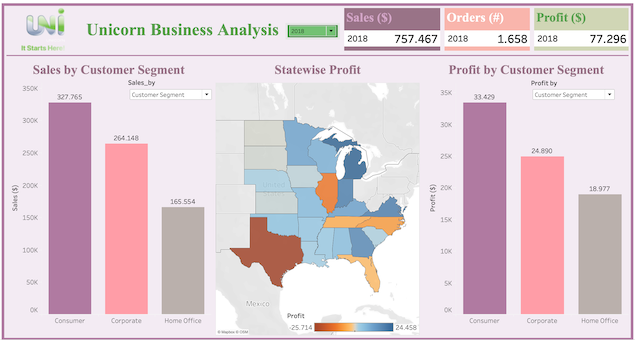

The dashboard page shown, as its layout file describes it:
{"tool":"tableau","page":{"name":"Unicorn_Dashboard","canvas":[1200,640],"ordinal":2},"visuals":[{"type":"image","param":"Image/Unicorn_new.png","box":[13.1,12.9,147,88]},{"type":"text","box":[160.1,12.9,485.7,88]},{"type":"worksheet","title":"Kpi_Sales","mark":"Automatic","rows":["Calculation_101260659032104976"],"box":[645.9,12.9,188,88]},{"type":"worksheet","title":"Kpi_Orders","mark":"Automatic","rows":["Calculation_101260659032104976"],"box":[833.9,12.9,168,88]},{"type":"worksheet","title":"Kpi_Profit","mark":"Automatic","rows":["Calculation_101260659032104976"],"box":[1001.9,12.9,185,88]},{"type":"filter","title":"Kpi_Profit","param":"[federated.1awfuua0epgay91aizjmr0vc12ec].[none:Calculation_101260659032104976:nk","box":[540,45,102,31]},{"type":"blank","box":[13.1,100.9,1173.7,10]},{"type":"worksheet","title":"Sales_Details","mark":"Bar","rows":["Sales"],"cols":["Calculation_101260658948505613"],"box":[13,111,392,524]},{"type":"worksheet","title":"Geo_View","mark":"Multipolygon","box":[405,111,391,524]},{"type":"worksheet","title":"Profit_Details","mark":"Automatic","rows":["Profit"],"cols":["Calculation_101260658944114699"],"box":[796,111,391,524]},{"type":"parameter","param":"[Parameters].[Parameter 4]","box":[245,148,160,45]},{"type":"parameter","param":"[Parameters].[Parameter 2]","box":[1000,149,160,43]},{"type":"legend","title":"Geo_View","param":"[federated.1awfuua0epgay91aizjmr0vc12ec].[sum:Profit:qk]","box":[543,584.9,248.1,39.4]}]}

Visuals, with their boxes in screenshot pixels (x1, y1, x2, y2), scaled from the page's 1200x640 canvas onto the 635x340 screenshot:
image: <bbox>7, 7, 85, 54</bbox>
text: <bbox>85, 7, 342, 54</bbox>
"Kpi_Sales" worksheet: <bbox>342, 7, 441, 54</bbox>
"Kpi_Orders" worksheet: <bbox>441, 7, 530, 54</bbox>
"Kpi_Profit" worksheet: <bbox>530, 7, 628, 54</bbox>
"Kpi_Profit" filter: <bbox>286, 24, 340, 40</bbox>
blank: <bbox>7, 54, 628, 59</bbox>
"Sales_Details" worksheet (Bar marks): <bbox>7, 59, 214, 337</bbox>
"Geo_View" worksheet (Multipolygon marks): <bbox>214, 59, 421, 337</bbox>
"Profit_Details" worksheet: <bbox>421, 59, 628, 337</bbox>
parameter: <bbox>130, 79, 214, 103</bbox>
parameter: <bbox>529, 79, 614, 102</bbox>
"Geo_View" legend: <bbox>287, 311, 419, 332</bbox>
